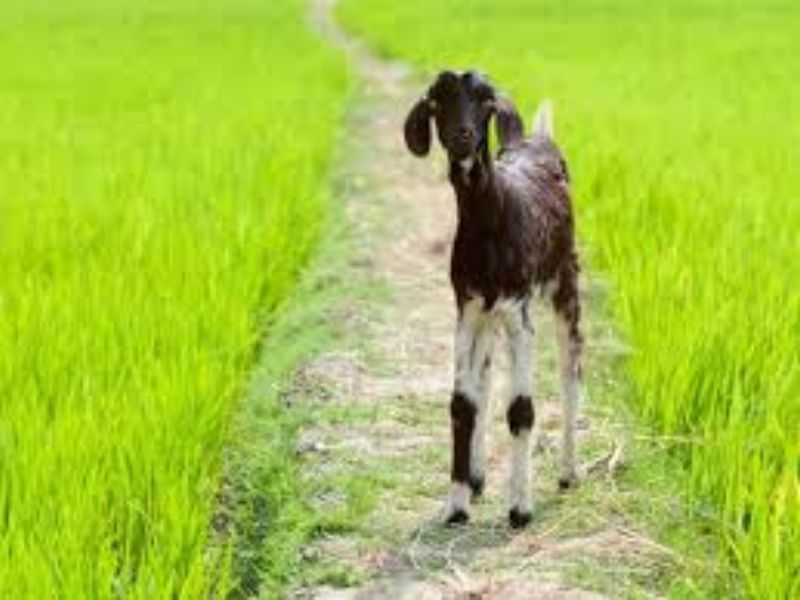goat: (386, 51, 611, 558)
